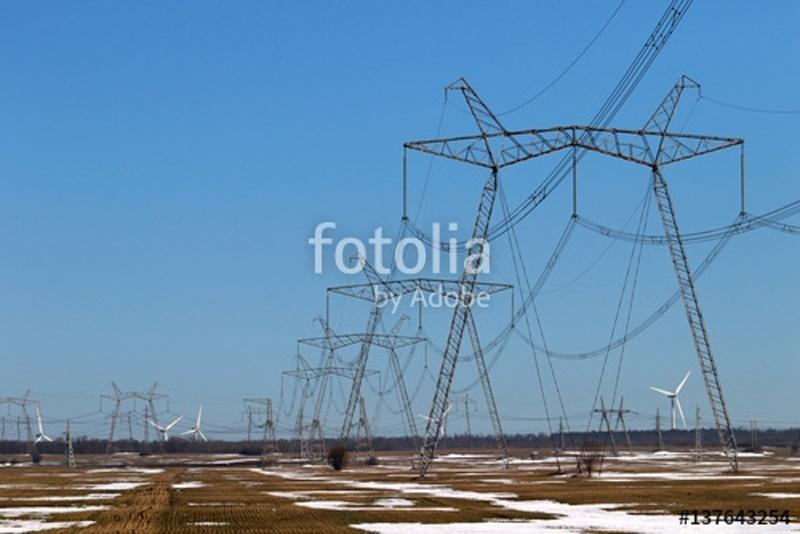power_tower: (405, 65, 775, 464), (331, 248, 525, 472)
